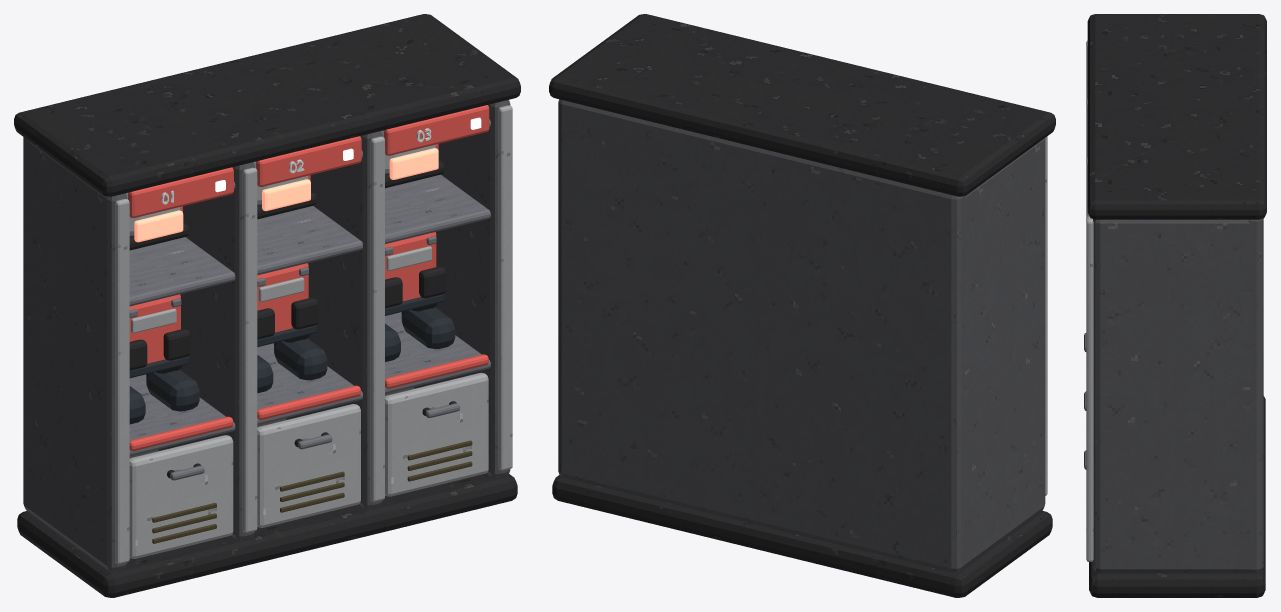
The model's file is decor_sec_equipment_locker_bank.glb.
3 renders of one model, left to right at view 1: azimuth 30°, elevation 25°; view 2: azimuth 150°, elevation 25°; view 3: azimuth 270°, elevation 25°, orthographic. The views are drawn at different scales.
Parts seen in each view (by area): view 1: DEC_SecEquipmentLockerBank__Top_Armor, DEC_SecEquipmentLockerBank__Upright_0, DEC_SecEquipmentLockerBank__Raised_Plinth, DEC_SecEquipmentLockerBank__Upright_2, DEC_SecEquipmentLockerBank__Upright_1, DEC_SecEquipmentLockerBank__Upright_3, DEC_SecEquipmentLockerBank__Lower_Door_0, DEC_SecEquipmentLockerBank__Lower_Door_1, DEC_SecEquipmentLockerBank__Lower_Door_2, DEC_SecEquipmentLockerBank__Upright_Face_1, DEC_SecEquipmentLockerBank__Upright_Face_3, DEC_SecEquipmentLockerBank__Upright_Face_2 (+29 smaller); view 2: DEC_SecEquipmentLockerBank__Rear_Shell, DEC_SecEquipmentLockerBank__Top_Armor, DEC_SecEquipmentLockerBank__Upright_0, DEC_SecEquipmentLockerBank__Raised_Plinth, DEC_SecEquipmentLockerBank__Upright_Face_0; view 3: DEC_SecEquipmentLockerBank__Upright_3, DEC_SecEquipmentLockerBank__Top_Armor, DEC_SecEquipmentLockerBank__Raised_Plinth, DEC_SecEquipmentLockerBank__Rear_Shell, DEC_SecEquipmentLockerBank__Upright_Face_3.
Part boxes in pixels (x1,y1,x2,y2): DEC_SecEquipmentLockerBank__Top_Armor: [14, 14, 520, 196]; DEC_SecEquipmentLockerBank__Upright_0: [25, 140, 126, 571]; DEC_SecEquipmentLockerBank__Raised_Plinth: [17, 473, 517, 597]; DEC_SecEquipmentLockerBank__Upright_2: [286, 131, 382, 509]; DEC_SecEquipmentLockerBank__Upright_1: [158, 162, 254, 540]; DEC_SecEquipmentLockerBank__Upright_3: [414, 100, 510, 477]; DEC_SecEquipmentLockerBank__Lower_Door_0: [129, 435, 233, 558]; DEC_SecEquipmentLockerBank__Lower_Door_1: [257, 404, 360, 527]; DEC_SecEquipmentLockerBank__Lower_Door_2: [385, 372, 488, 496]; DEC_SecEquipmentLockerBank__Upright_Face_1: [242, 167, 257, 532]; DEC_SecEquipmentLockerBank__Upright_Face_3: [498, 105, 512, 470]; DEC_SecEquipmentLockerBank__Upright_Face_2: [370, 136, 384, 501]; DEC_SecEquipmentLockerBank__Rear_Shell: [558, 99, 964, 572]; DEC_SecEquipmentLockerBank__Top_Armor: [549, 14, 1055, 196]; DEC_SecEquipmentLockerBank__Upright_0: [963, 138, 1045, 568]; DEC_SecEquipmentLockerBank__Raised_Plinth: [552, 475, 1052, 597]; DEC_SecEquipmentLockerBank__Upright_Face_0: [1045, 136, 1047, 495]; DEC_SecEquipmentLockerBank__Upright_3: [1093, 219, 1254, 572]; DEC_SecEquipmentLockerBank__Top_Armor: [1087, 14, 1266, 219]; DEC_SecEquipmentLockerBank__Raised_Plinth: [1089, 396, 1265, 597]; DEC_SecEquipmentLockerBank__Rear_Shell: [1248, 218, 1263, 572]; DEC_SecEquipmentLockerBank__Upright_Face_3: [1086, 216, 1093, 561].
Size of the model in its own units: 2.16 by 2.09 by 0.8675.
10 materials, 4 textured.
